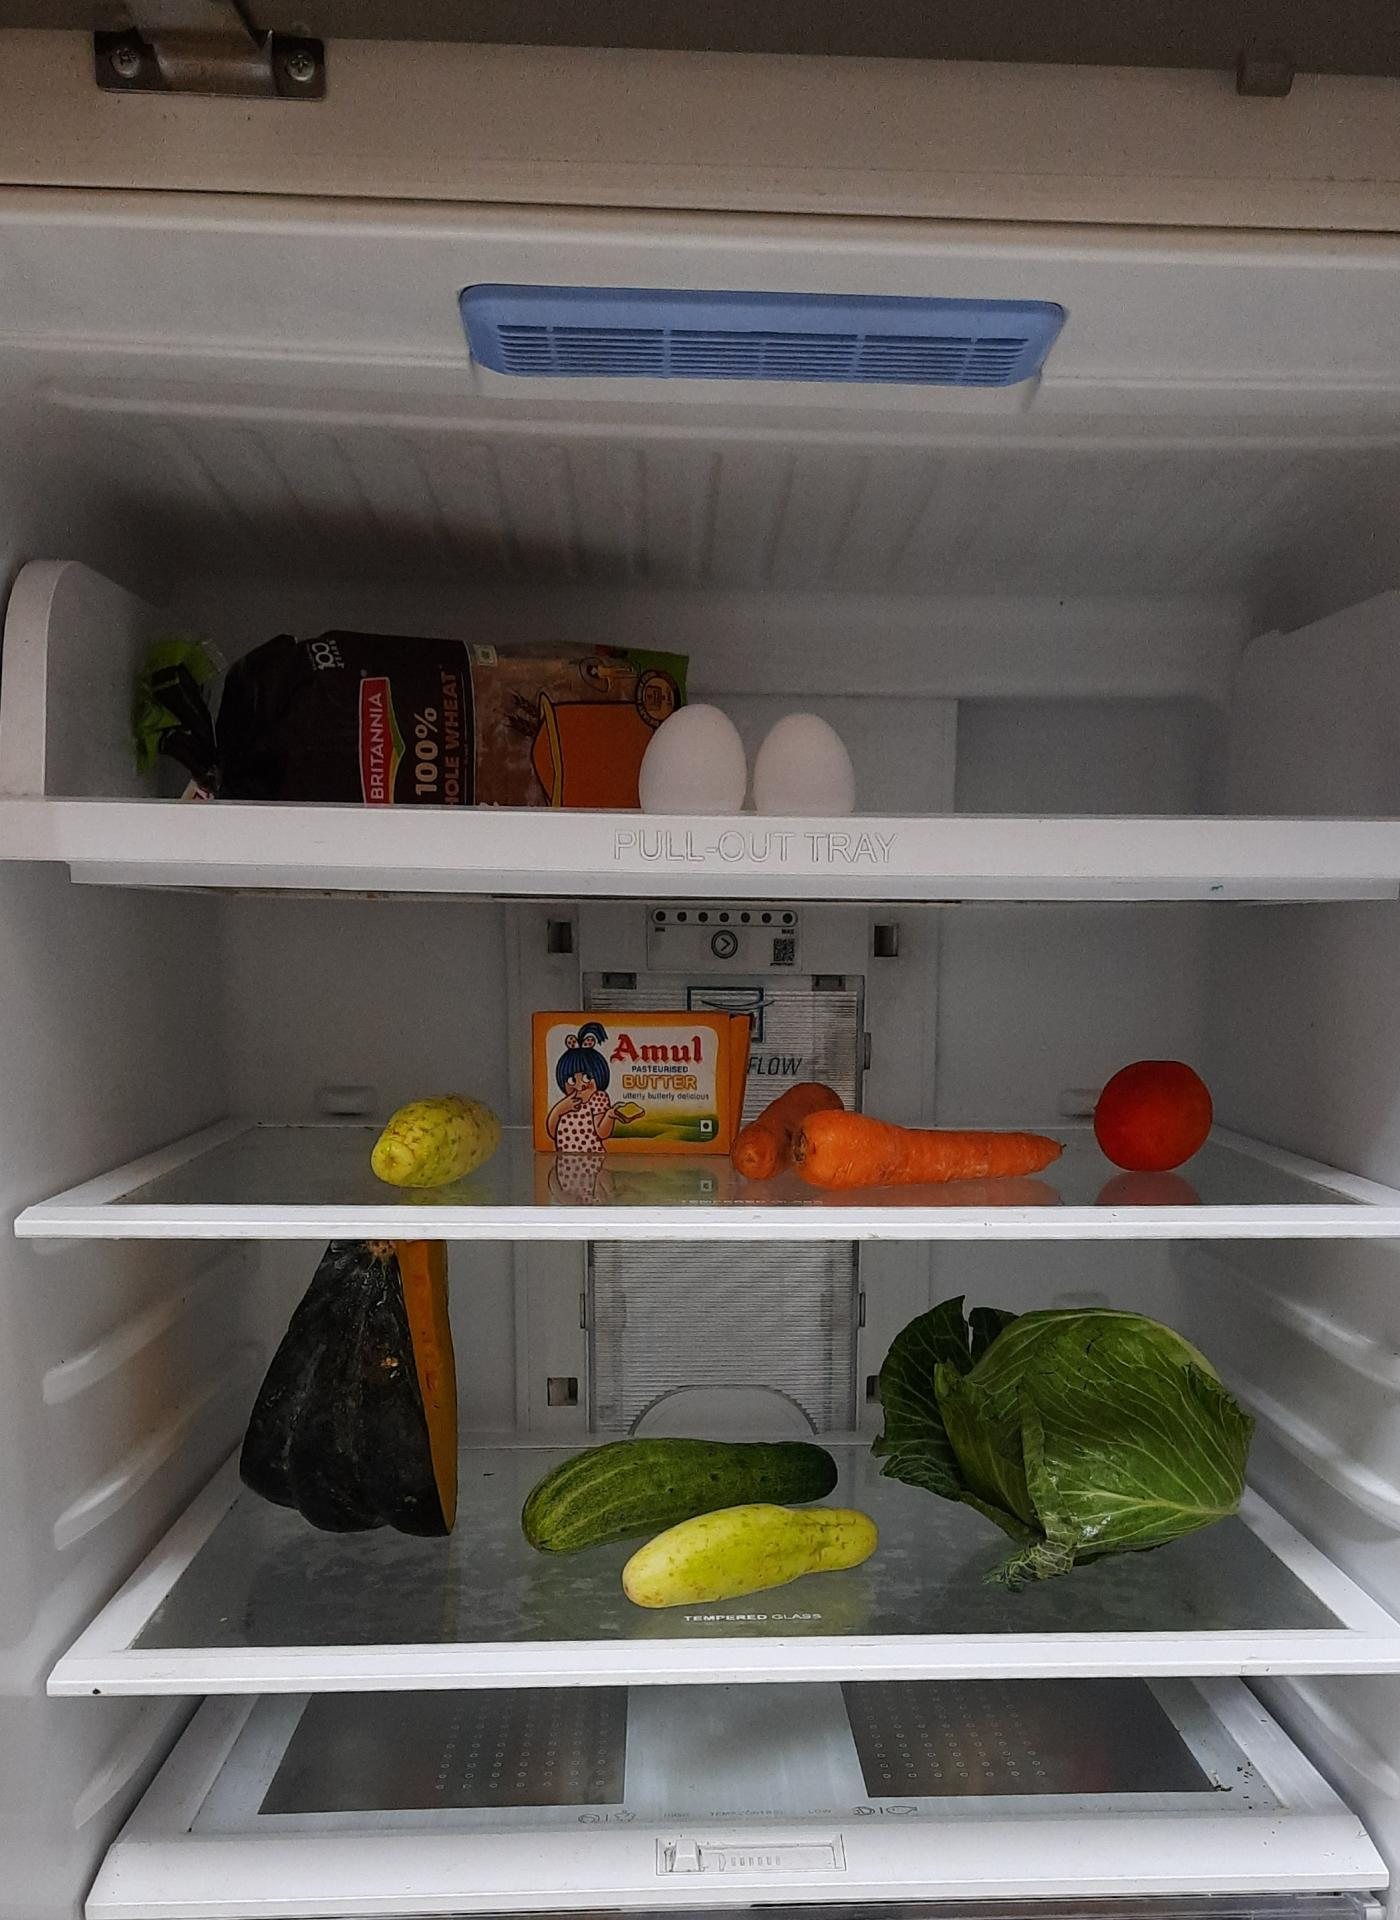bread: (155, 616, 687, 800)
butter: (531, 1014, 751, 1157)
cabbage: (869, 1289, 1257, 1589)
carrots: (732, 1081, 1060, 1187)
cucumber: (513, 1437, 838, 1553), (622, 1510, 881, 1610), (373, 1091, 508, 1185)
egg: (632, 695, 865, 829)
pumpkin: (237, 1243, 464, 1543)
tomato: (1093, 1054, 1217, 1170)
